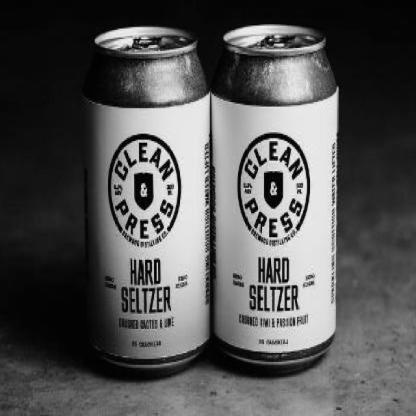alumunium_can: (81, 24, 211, 375), (209, 22, 338, 375)
